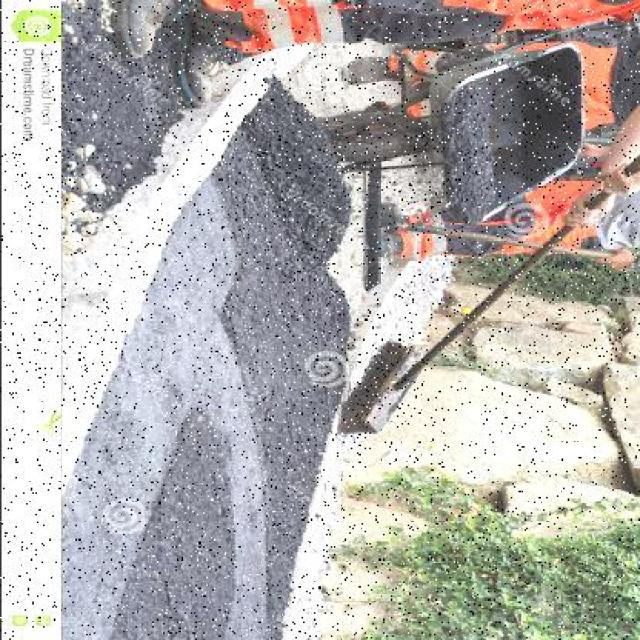shoes: (174, 15, 238, 110), (116, 0, 191, 58), (341, 58, 402, 87), (379, 196, 419, 230), (376, 235, 401, 258)
